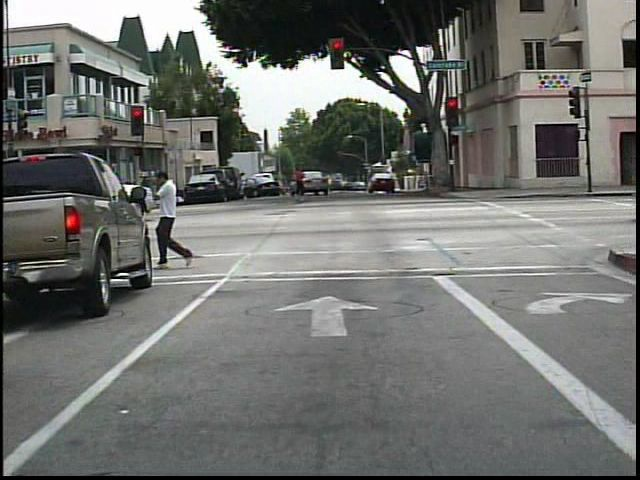person: (150, 167, 196, 272), (288, 162, 312, 206)
